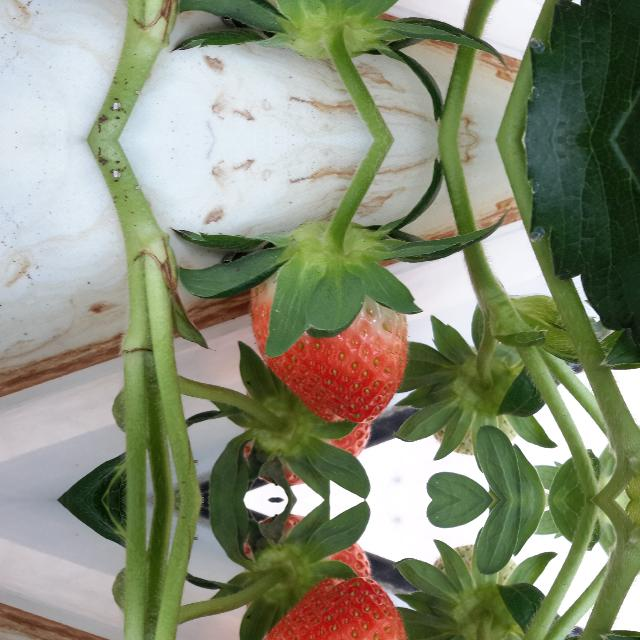Health_100: (250, 268, 408, 422), (250, 577, 408, 640)
